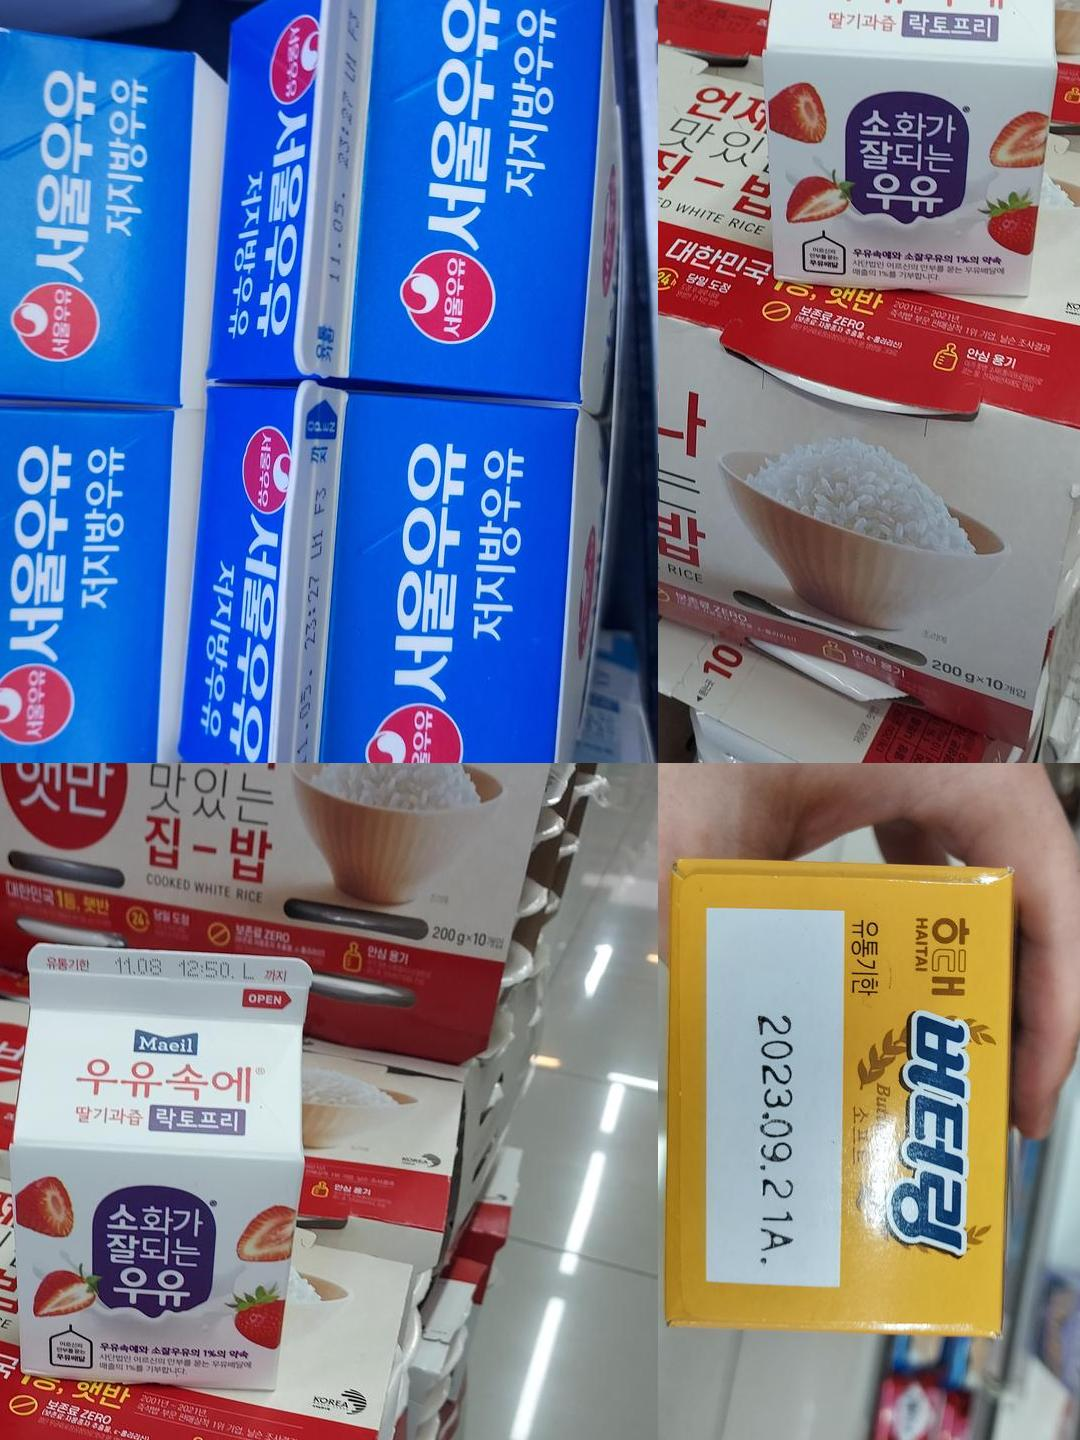milk: (301, 0, 381, 390), (25, 939, 310, 1026), (286, 395, 346, 763), (778, 0, 1063, 43), (0, 0, 31, 390), (0, 410, 33, 763)
snack food: (704, 914, 839, 1295)
